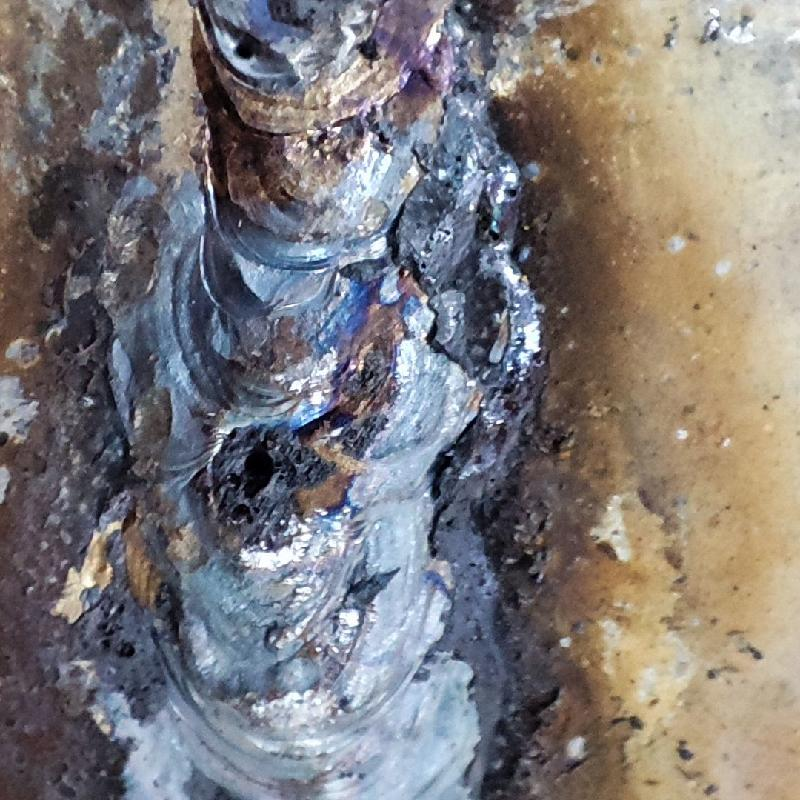Surface_pores: (207, 414, 313, 540), (213, 20, 281, 82), (343, 20, 396, 78)
